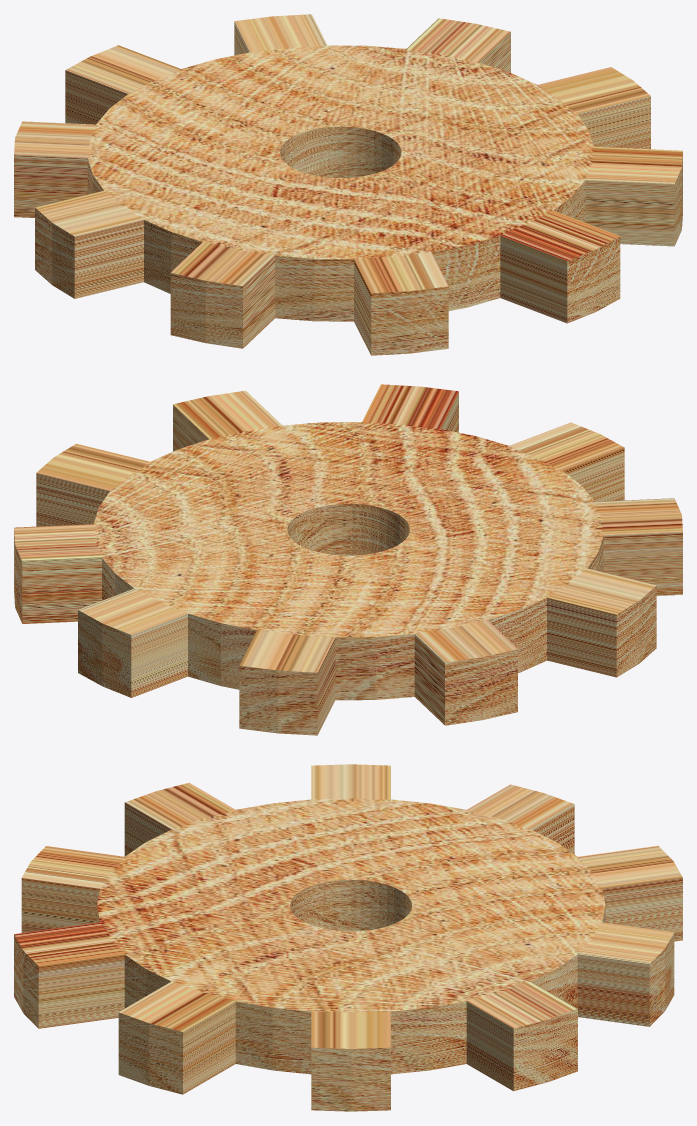
Rendered from Gear1.glb.
3 renders of one model, top to bottom at view 1: azimuth 30°, elevation 25°; view 2: azimuth 150°, elevation 25°; view 3: azimuth 270°, elevation 25°, orthographic.
Parts seen in each view (by area): view 1: Cylinder; view 2: Cylinder; view 3: Cylinder.
Part boxes in pixels (x1,y1,x2,y2): Cylinder: [14, 14, 682, 355]; Cylinder: [14, 384, 682, 735]; Cylinder: [14, 764, 682, 1111].
Size of the model in its own units: 2.65 by 0.272 by 2.63.
Materials: 1 (1 with a texture image).
